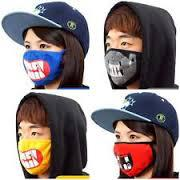OK: (107, 33, 155, 87), (17, 120, 63, 176), (114, 130, 161, 178), (23, 41, 67, 85)
